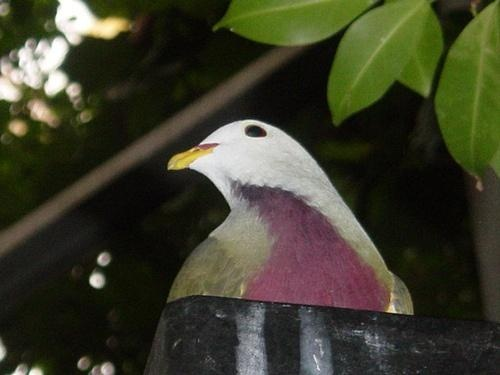bird: (165, 118, 418, 316)
